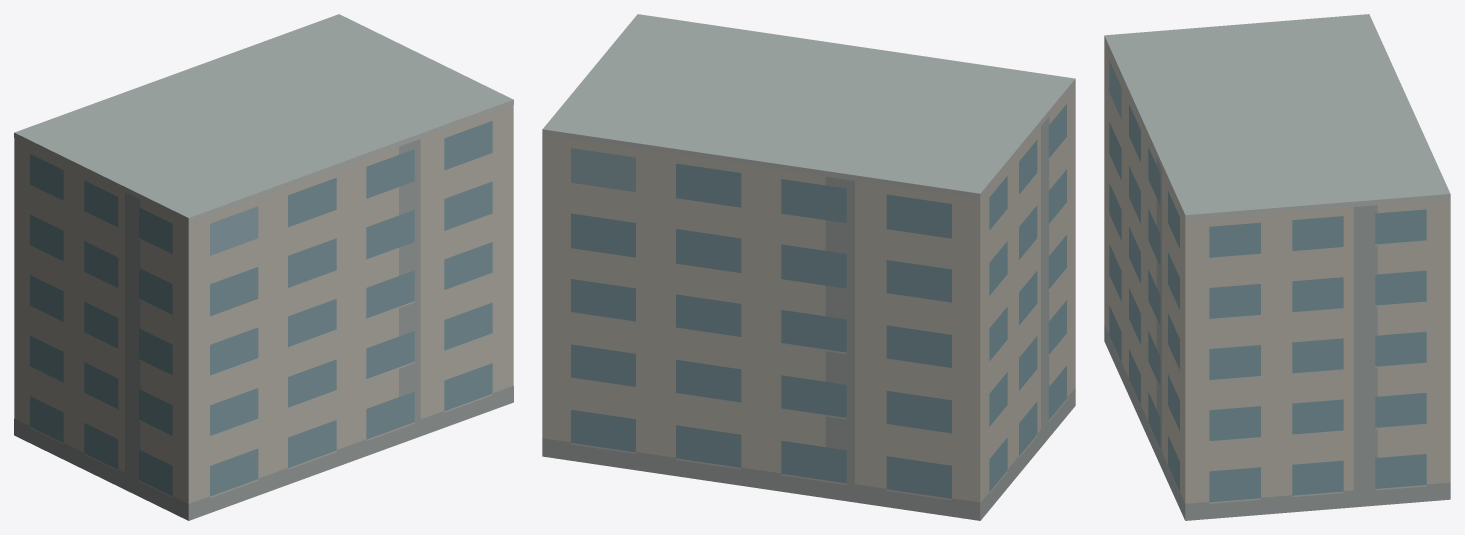
Rendered from residential-beca34ef-8351-4c28-8119-4bd6d5decbc1.glb.
The picture shows the model from 3 angles, left to right: view 1: azimuth 30°, elevation 25°; view 2: azimuth 150°, elevation 25°; view 3: azimuth 270°, elevation 25°; orthographic projection. The views are drawn at different scales.
Visible parts, largest first — view 1: residential-beca34ef-8351-4c28-8119-4bd6d5decbc1.tmp; view 2: residential-beca34ef-8351-4c28-8119-4bd6d5decbc1.tmp; view 3: residential-beca34ef-8351-4c28-8119-4bd6d5decbc1.tmp.
Part boxes in pixels (x1=…): residential-beca34ef-8351-4c28-8119-4bd6d5decbc1.tmp: x1=14, y1=14, x2=513, y2=520; residential-beca34ef-8351-4c28-8119-4bd6d5decbc1.tmp: x1=542, y1=14, x2=1075, y2=520; residential-beca34ef-8351-4c28-8119-4bd6d5decbc1.tmp: x1=1104, y1=14, x2=1450, y2=520.
Size of the model in its own units: 19.77 by 14 by 14.38.
